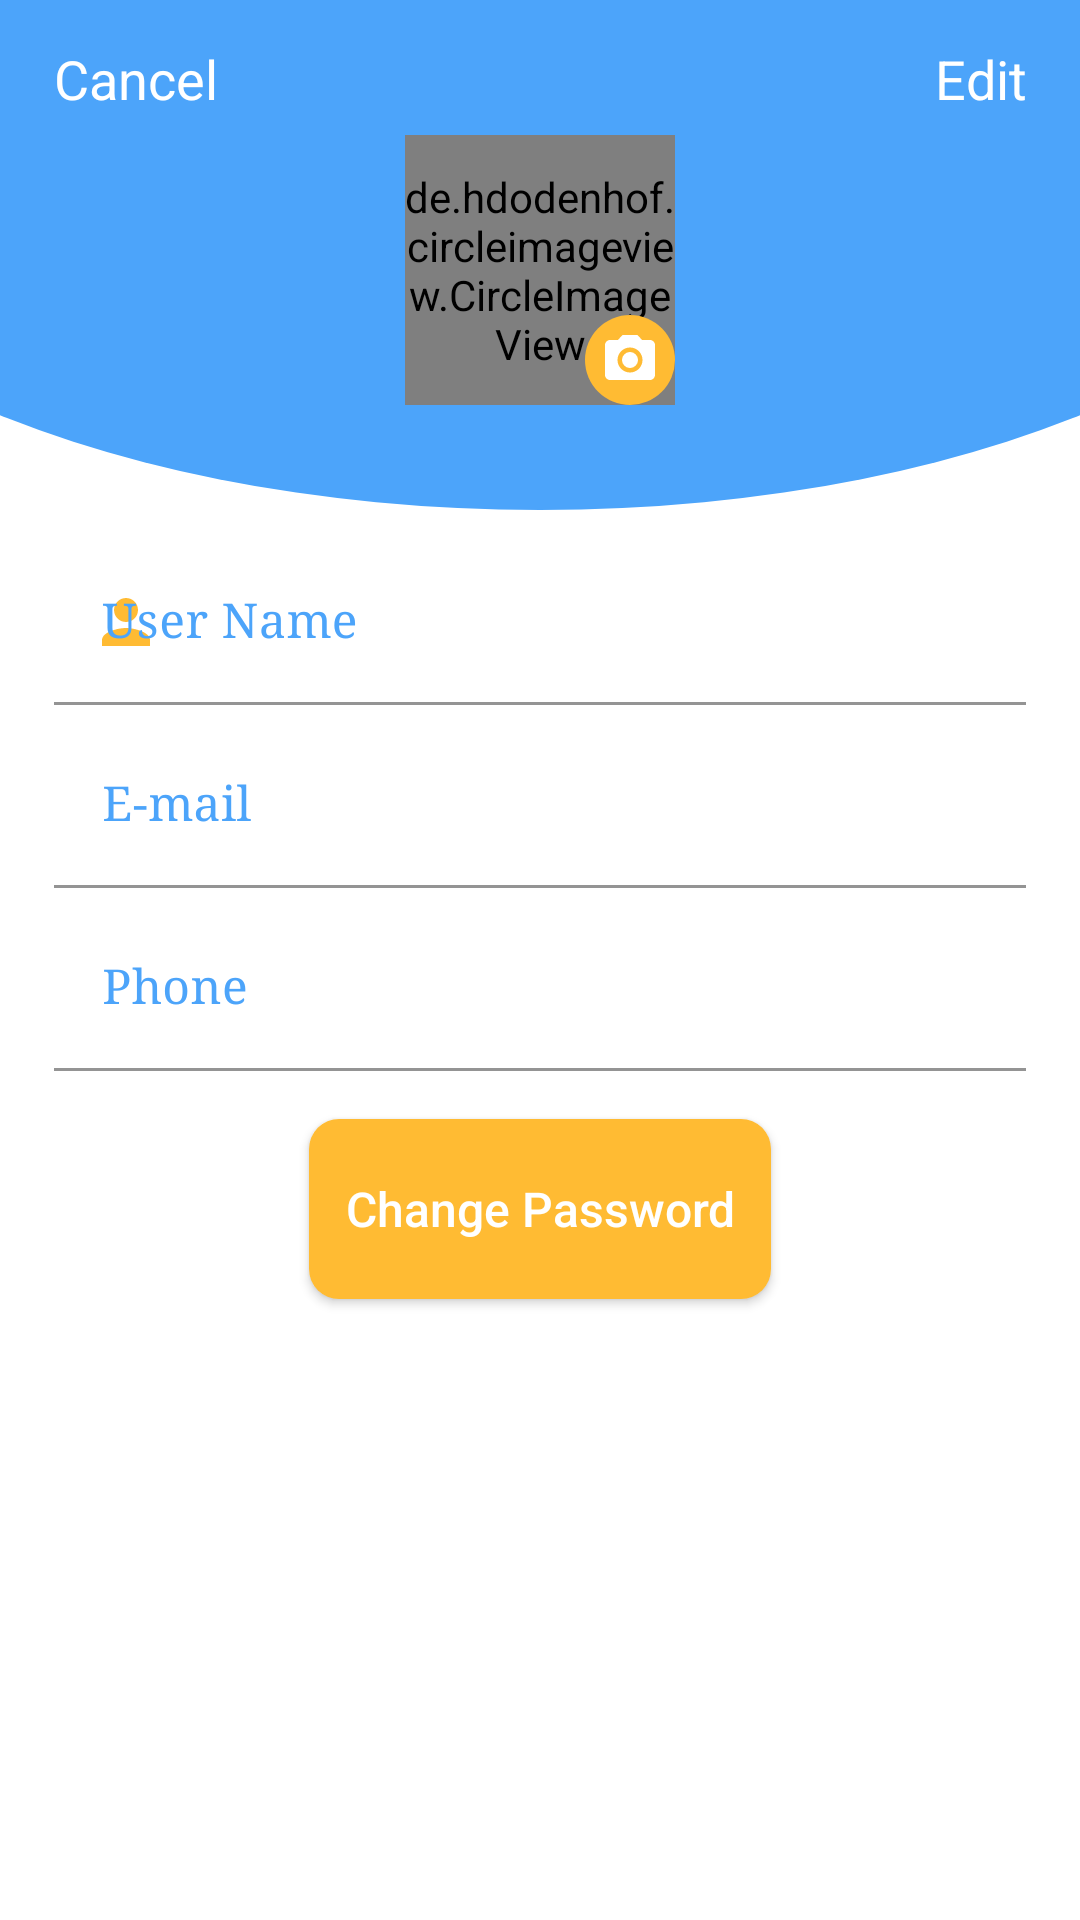

Named icons in this screenshot (1080 × 1920) and their centers, [x,y]:
camera: [630,360]
